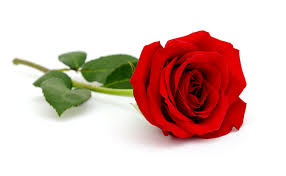lale: (125, 22, 257, 155)
